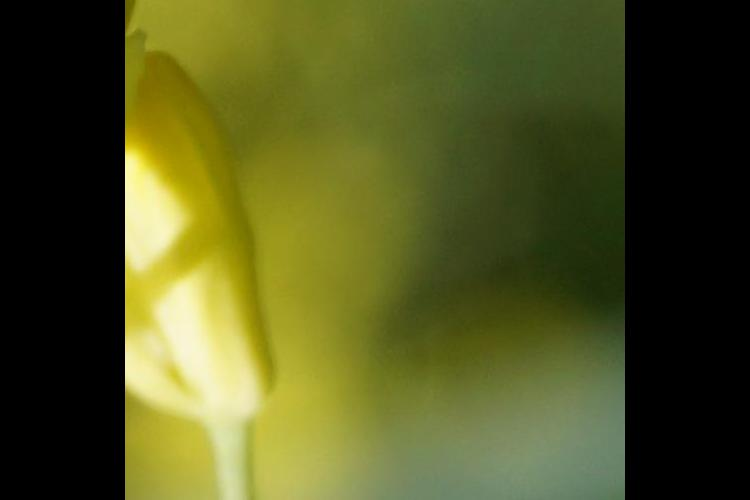bud: (134, 65, 285, 434)
